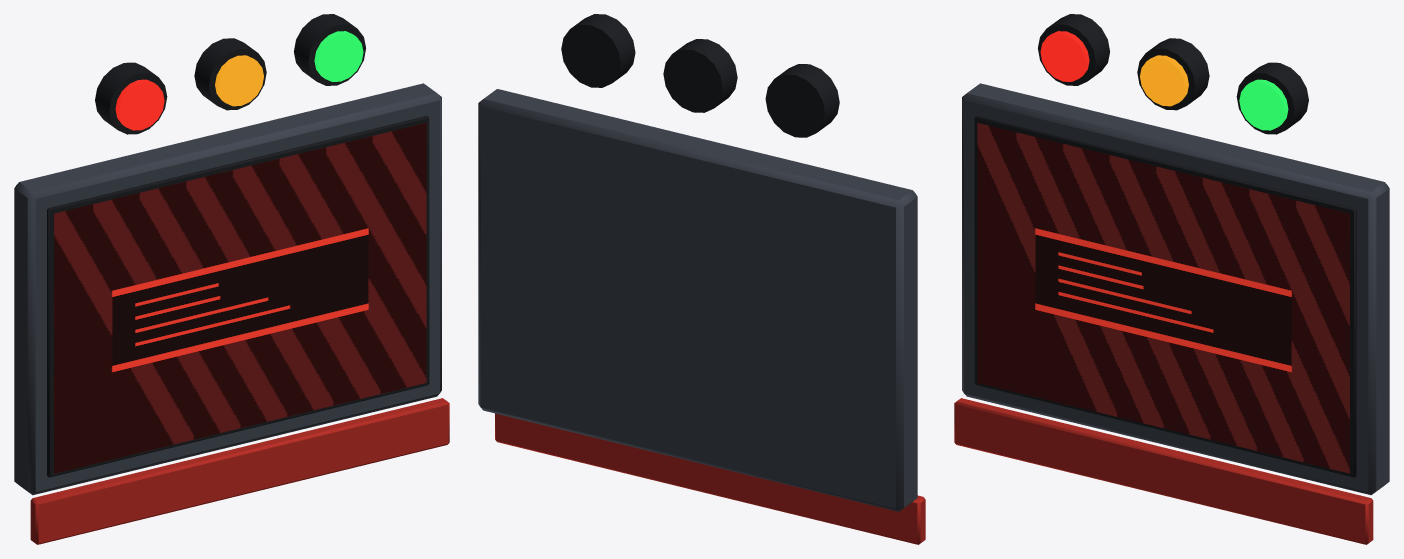
File: display_alert_board.glb
3 renders of one model, left to right at view 1: azimuth 30°, elevation 25°; view 2: azimuth 150°, elevation 25°; view 3: azimuth 330°, elevation 25°, orthographic. The views are drawn at different scales.
Visible parts, largest first — view 1: display_alert_board; view 2: display_alert_board; view 3: display_alert_board.
Boxes of the visible parts, x1,y1,x2,y2 form: display_alert_board: (14,14,449,544); display_alert_board: (478,14,925,544); display_alert_board: (954,14,1389,544).
Bounding box in the file's own units: 1 × 1.02 × 0.105.
Materials: 7 (1 with a texture image).
